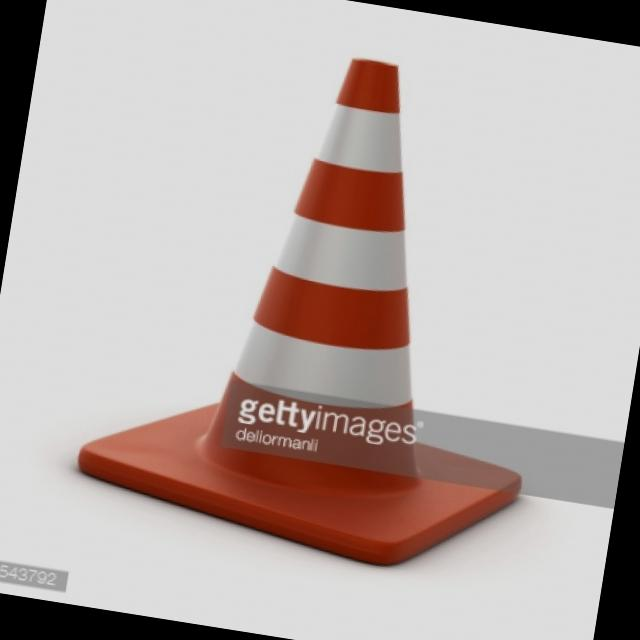cone: (104, 1, 566, 565)
